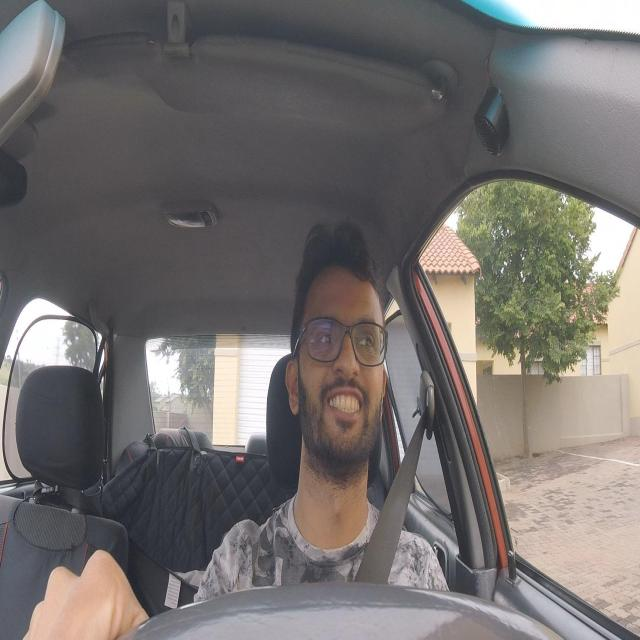open: (309, 309, 341, 360), (350, 314, 383, 362)
